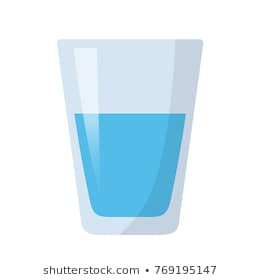glass of water: (75, 40, 178, 222)
